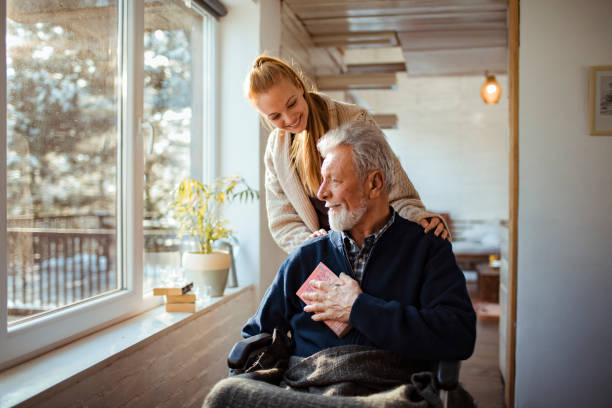without mask: (310, 129, 394, 240), (253, 71, 316, 148)
